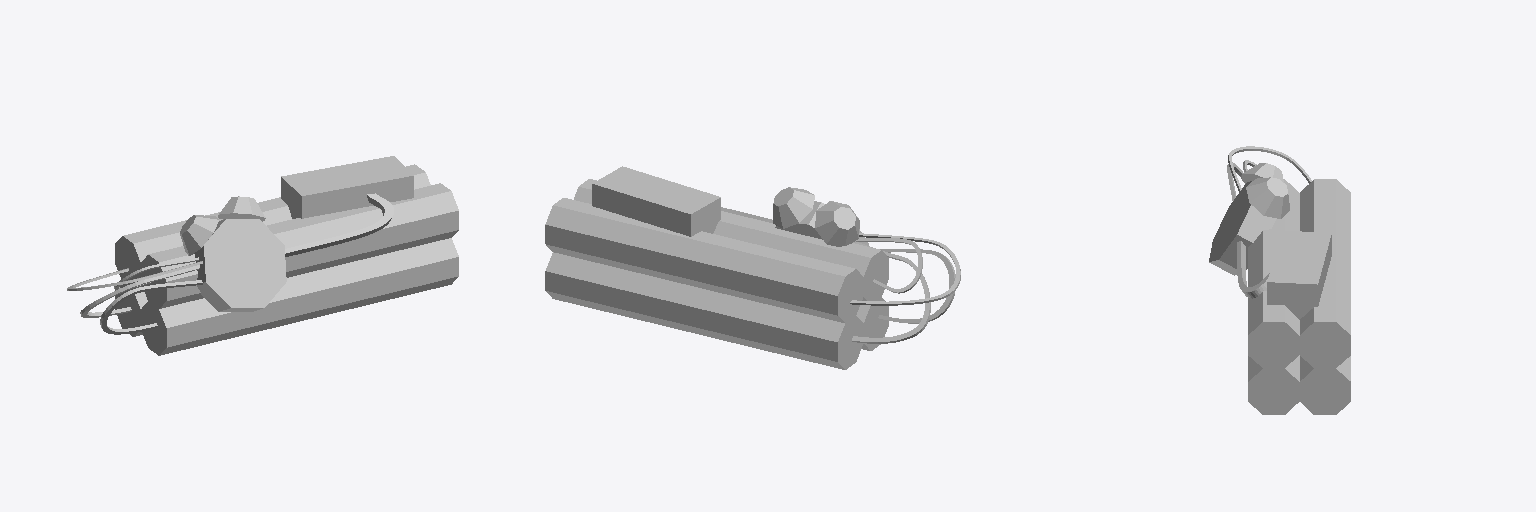
Rendered from dyno.obj.
The picture shows the model from 3 angles: view 1: azimuth 30°, elevation 25°; view 2: azimuth 150°, elevation 25°; view 3: azimuth 270°, elevation 25°; orthographic projection.
Parts seen in each view (by area): view 1: Cube, Curve.004_Mesh.004, Curve.001_Mesh.003, Curve.002_Mesh.002, Curve.003_Mesh.001; view 2: Cube, Curve.003_Mesh.001, Curve.002_Mesh.002, Curve.001_Mesh.003, Curve_Mesh; view 3: Cube, Curve.004_Mesh.004, Curve.003_Mesh.001.
Part boxes in pixels (x1,y1,x2,y2): Cube: (115, 156, 458, 355); Curve.004_Mesh.004: (285, 193, 393, 256); Curve.001_Mesh.003: (100, 280, 202, 334); Curve.002_Mesh.002: (80, 265, 199, 317); Curve.003_Mesh.001: (67, 261, 202, 290); Cube: (545, 166, 888, 369); Curve.003_Mesh.001: (850, 233, 960, 305); Curve.002_Mesh.002: (852, 242, 930, 343); Curve.001_Mesh.003: (878, 249, 955, 323); Curve_Mesh: (856, 238, 922, 293); Cube: (1209, 163, 1350, 414); Curve.004_Mesh.004: (1237, 241, 1269, 298); Curve.003_Mesh.001: (1228, 146, 1311, 191).
Bounding box in the file's own units: 8.43 × 2.93 × 2.78.